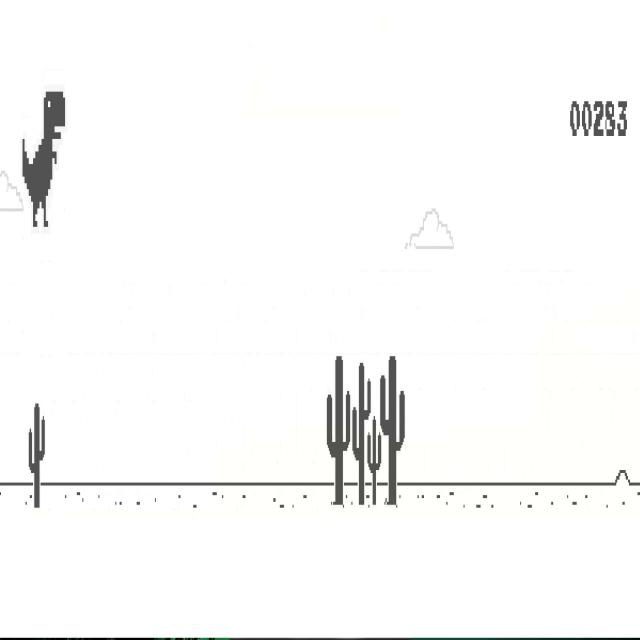cacto: (380, 353, 405, 507), (326, 354, 351, 507), (352, 361, 372, 507), (28, 401, 46, 511), (367, 414, 381, 507)
dino: (22, 90, 66, 228)
